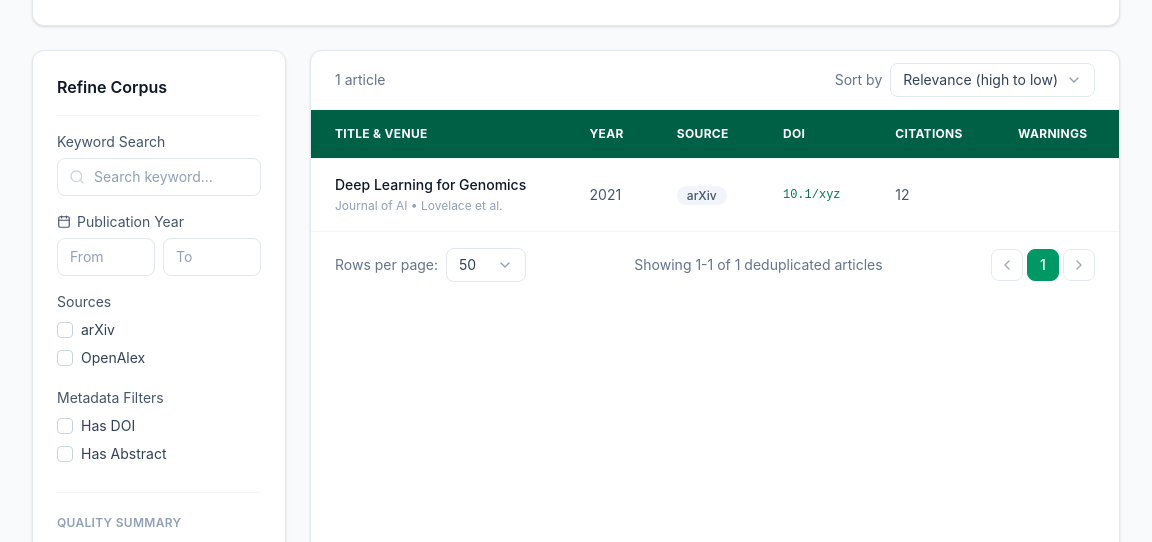
ResultsPage - article detail drawer › never renders a javascript: article URL as a clickable link
The image size is (1152, 542).
(page scrolled)
What coordinates should you click on to do the following:
click the text "Deep Learning for Genomics"
I would click on:
 (438, 185)
Its box is [335, 175, 542, 195].
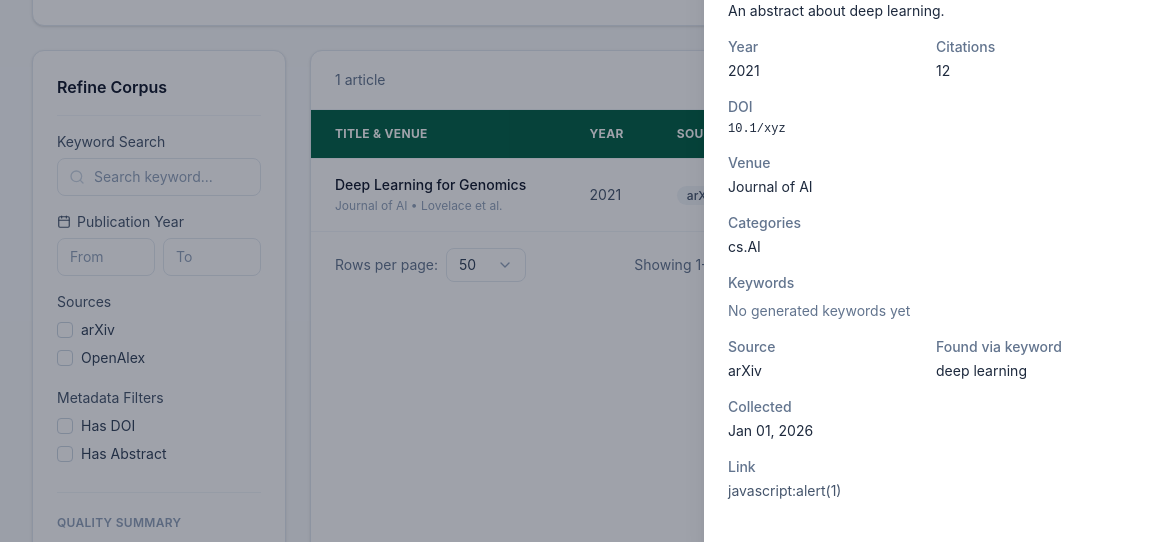
Now the text "javascript:alert(1)" is shown, box [728, 482, 842, 499]
